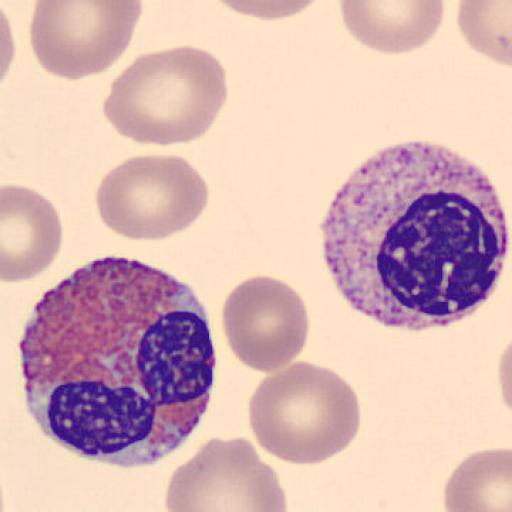RBC: (104, 44, 229, 148), (246, 360, 363, 467), (94, 152, 210, 243), (164, 434, 288, 512), (220, 274, 310, 375), (28, 1, 141, 81), (1, 183, 64, 284), (338, 0, 446, 55), (442, 445, 511, 512), (455, 0, 512, 66), (203, 0, 330, 21), (496, 324, 512, 422), (0, 4, 17, 86), (498, 340, 512, 416)
WBC: (17, 257, 218, 469), (320, 137, 508, 333)
